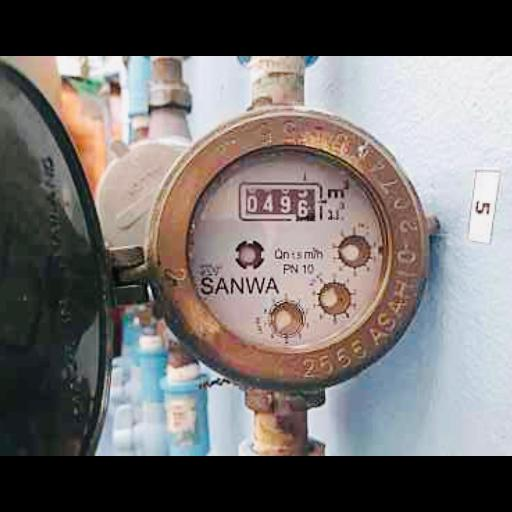0: (246, 188, 261, 214)
4: (261, 188, 276, 214)
6: (296, 188, 316, 222)
9: (276, 188, 296, 214)
border_water_meter_number: (238, 182, 322, 223)
